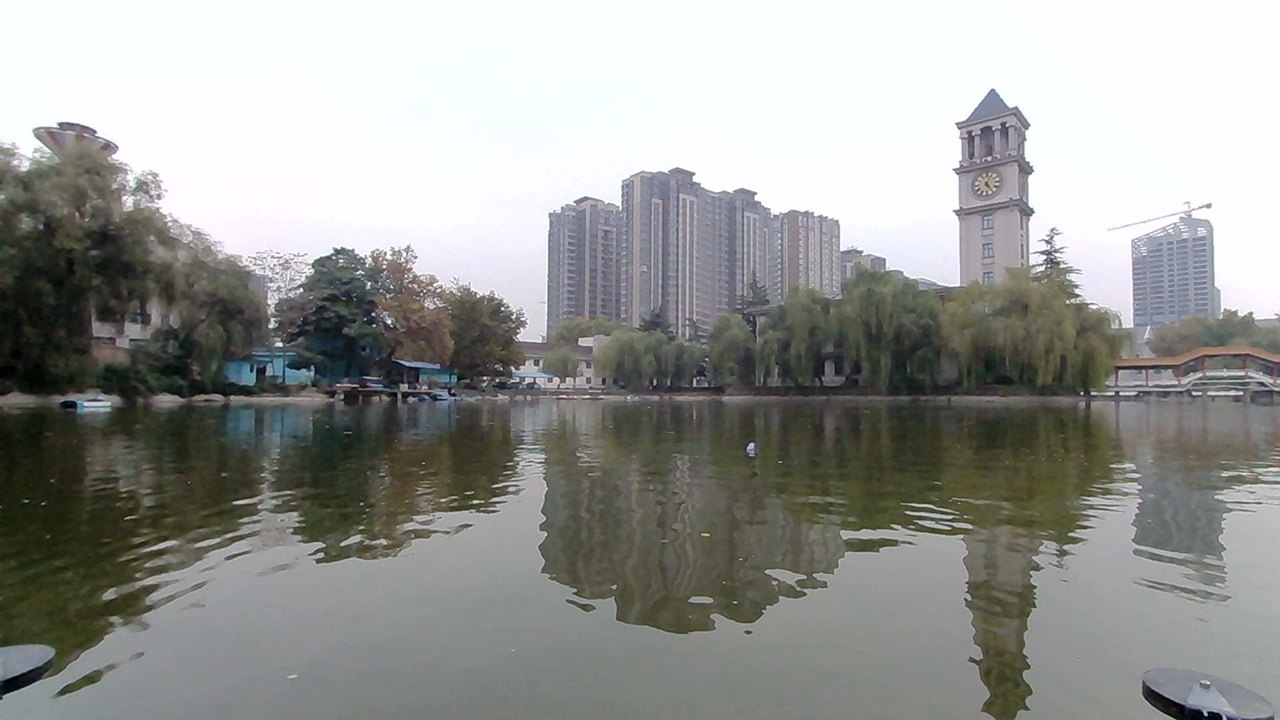bottle: (718, 427, 770, 459)
